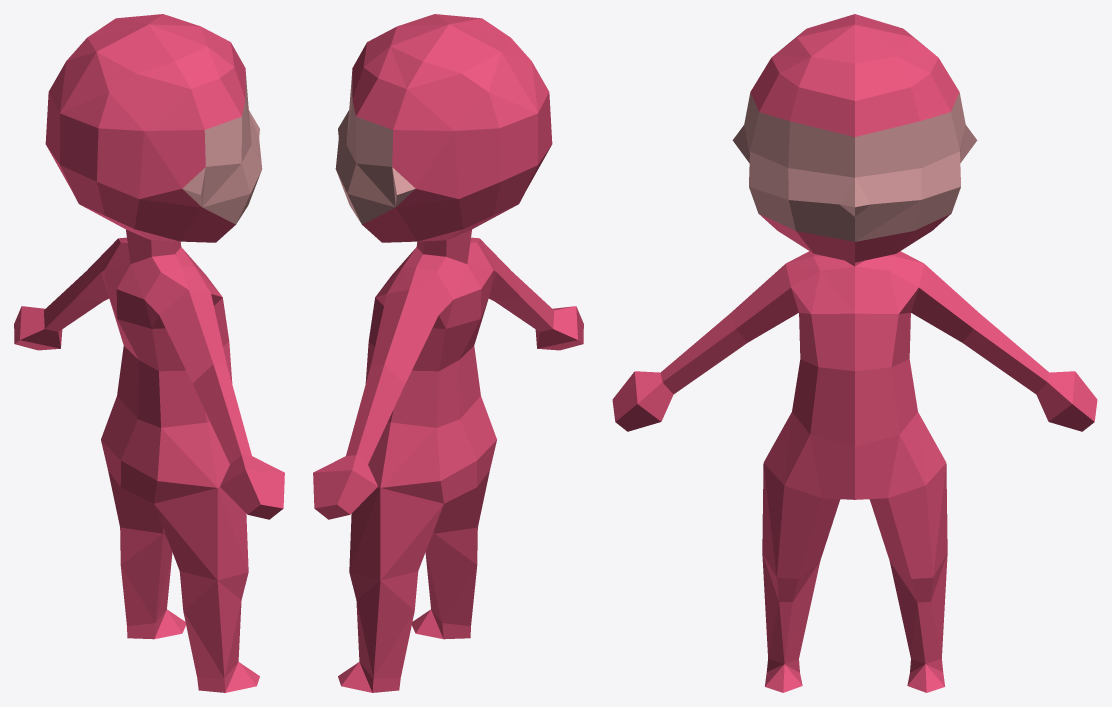
The model's file is Npc6.fbx.
3 views of the same model, side by side, from view 1: azimuth 30°, elevation 25°; view 2: azimuth 150°, elevation 25°; view 3: azimuth 270°, elevation 25° (orthographic).
Parts seen in each view (by area): view 1: Human_Base.007; view 2: Human_Base.007; view 3: Human_Base.007.
Boxes of the visible parts, box(x1,y1,x2,y2) form: Human_Base.007: box(14, 14, 284, 692); Human_Base.007: box(313, 14, 583, 692); Human_Base.007: box(612, 14, 1097, 692).
Bounding box in the file's own units: 63.77 × 196 × 136.
